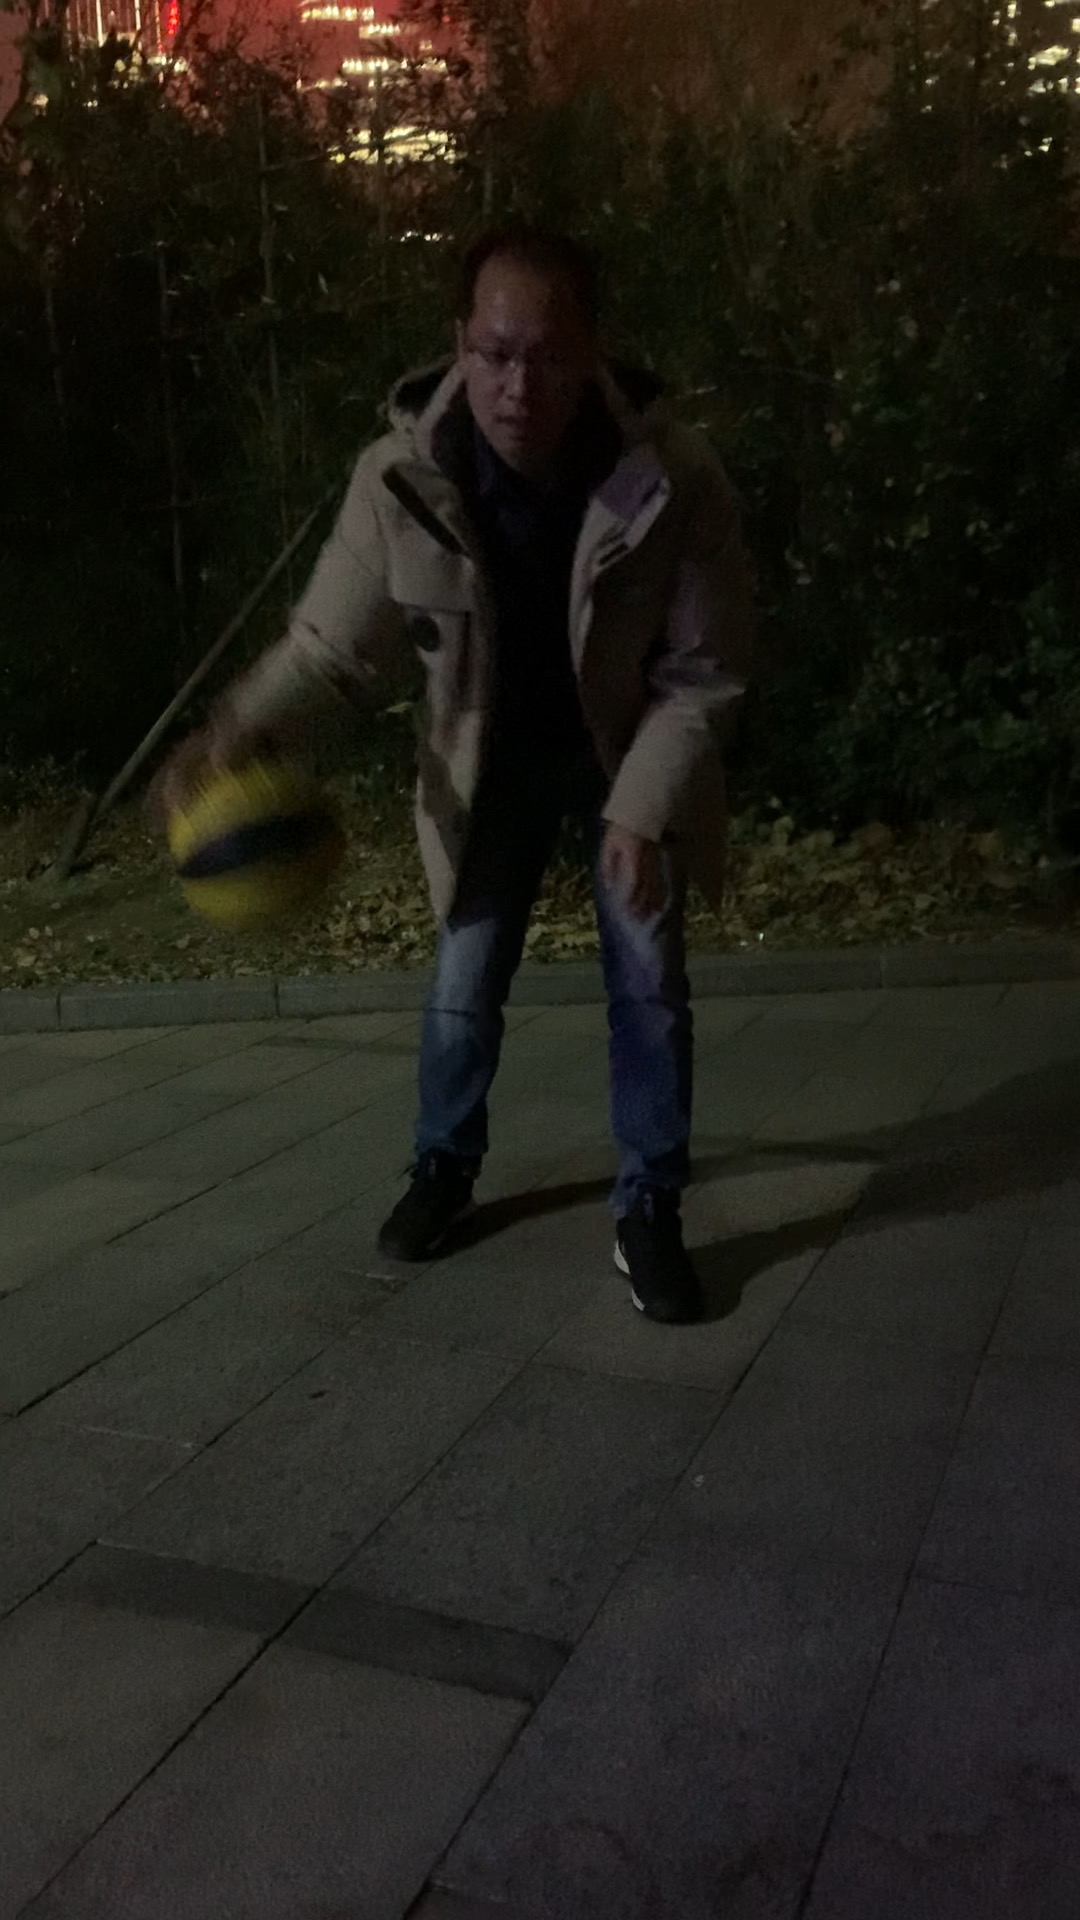ball: (169, 757, 356, 953)
